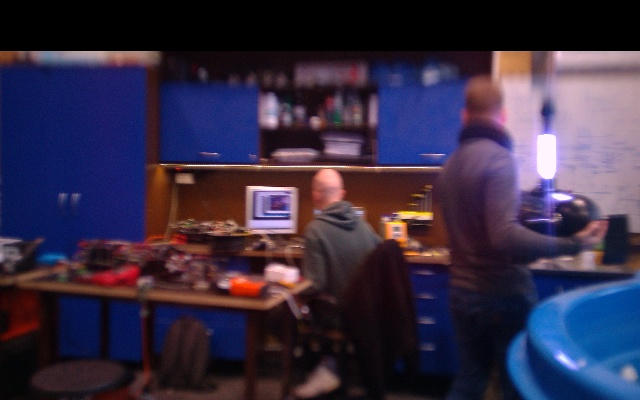white: (536, 133, 557, 181)
